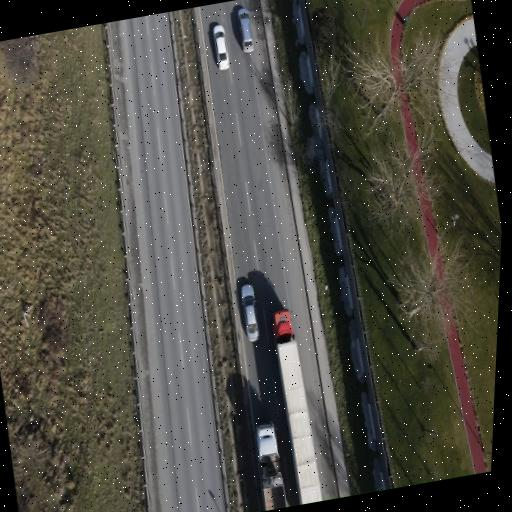car: (241, 284, 259, 341), (213, 25, 229, 70), (238, 9, 253, 52)
truck: (273, 310, 322, 503), (257, 423, 286, 510)
